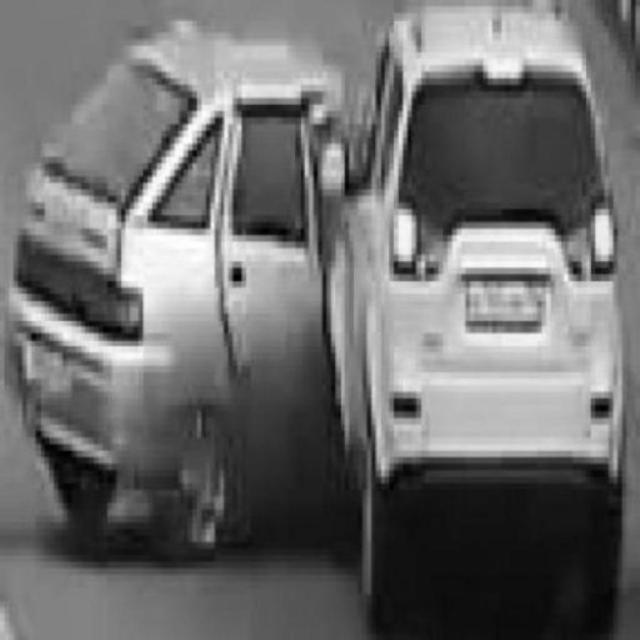accident: (14, 11, 631, 627)
